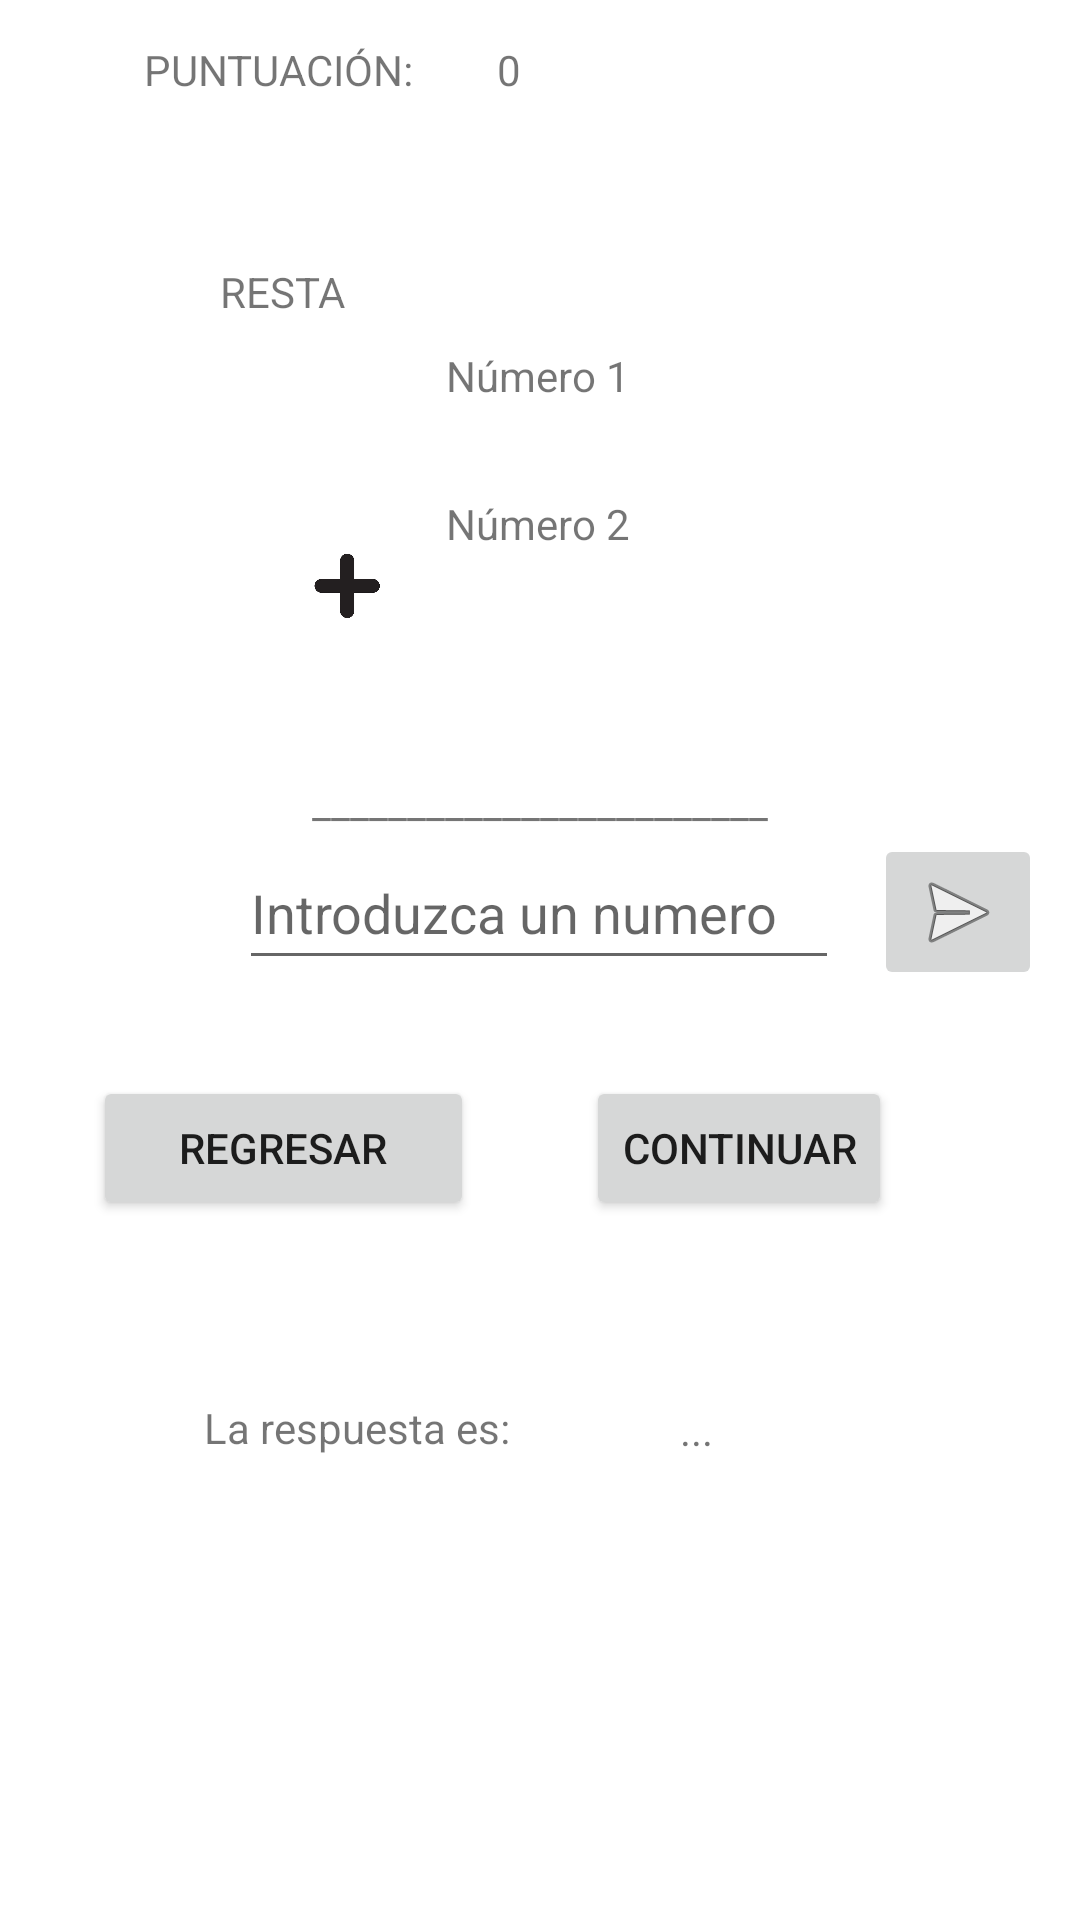

Screen size 1080×1920. Icon name, then its center in pixels as [x,y]:
adir signo nico dise: [347,586]
send: [958,912]
